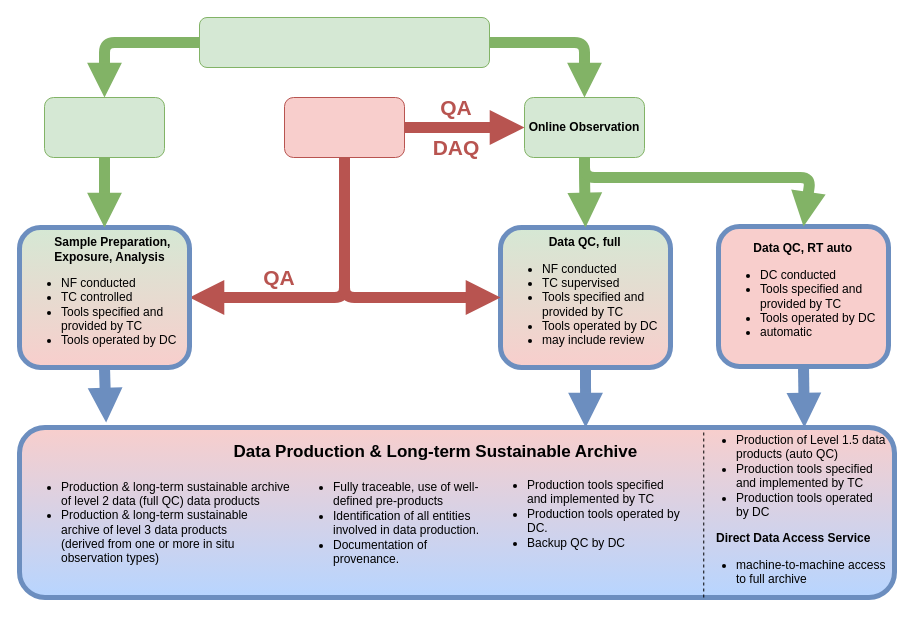
This 914x617 diagram has some shape labels left out. Each missing label, with the centre of its shape:
National Facility: pixel 344 42
Offline Observation: pixel 104 127
Topic Centre: pixel 344 127
